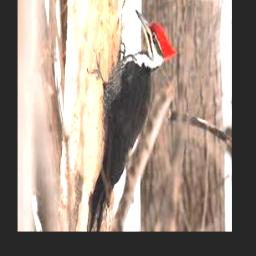Woodpecker: (89, 8, 177, 231)
